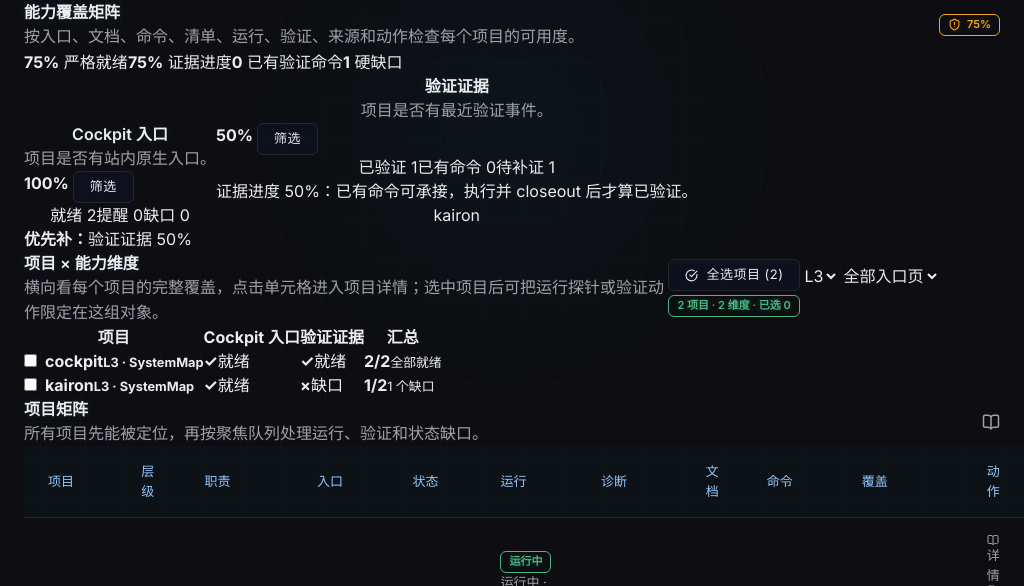
Test: SystemMapView interaction › scopes bulk verification triage to selected projects
This screenshot has width=1024, height=586.
(page scrolled)
What coordinates should you click on to do the following:
click the checkbox named "选择项目 kairon"
I would click on:
 (30, 385)
Its box is [24,378,37,392].
(page scrolled)
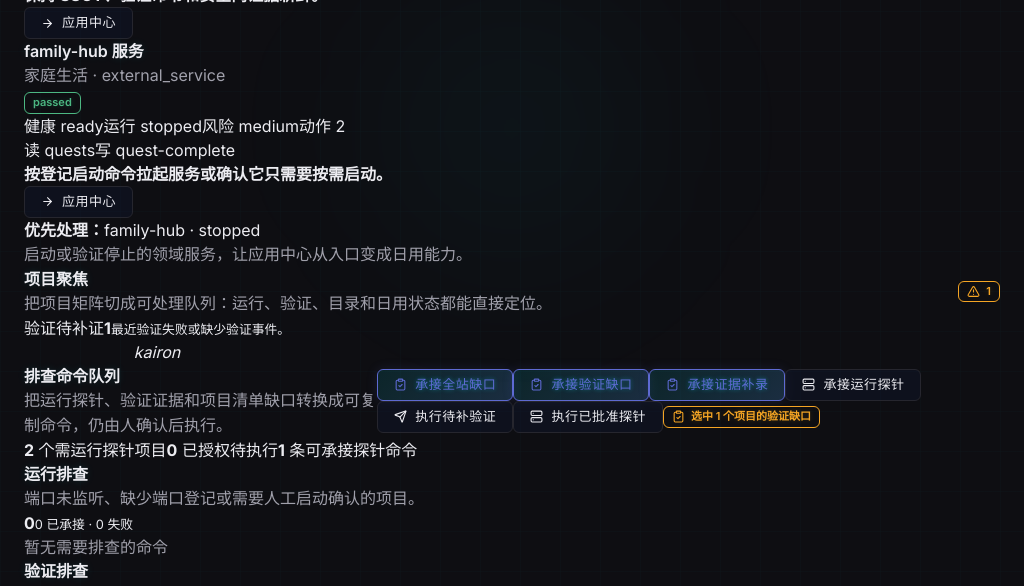
What coordinates should you click on to do the following:
click the button with aria-label "批量承接验证缺口"
I would click on:
 (581, 385)
Its box is [513,369,649,401].
(page scrolled)
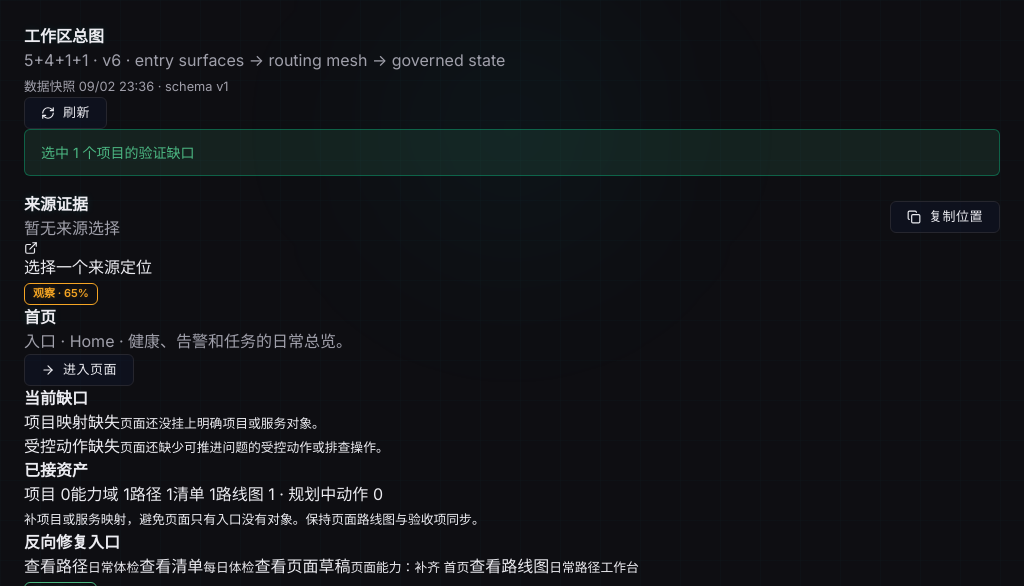
Expected: the message reads "选中 1 个项目的验证缺口", [41,144,195,161]
